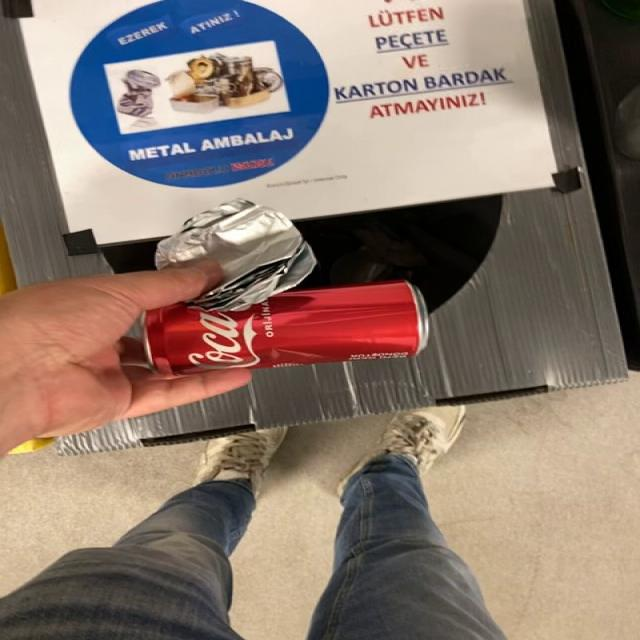bin: (1, 0, 628, 455)
metal: (132, 281, 429, 376)
